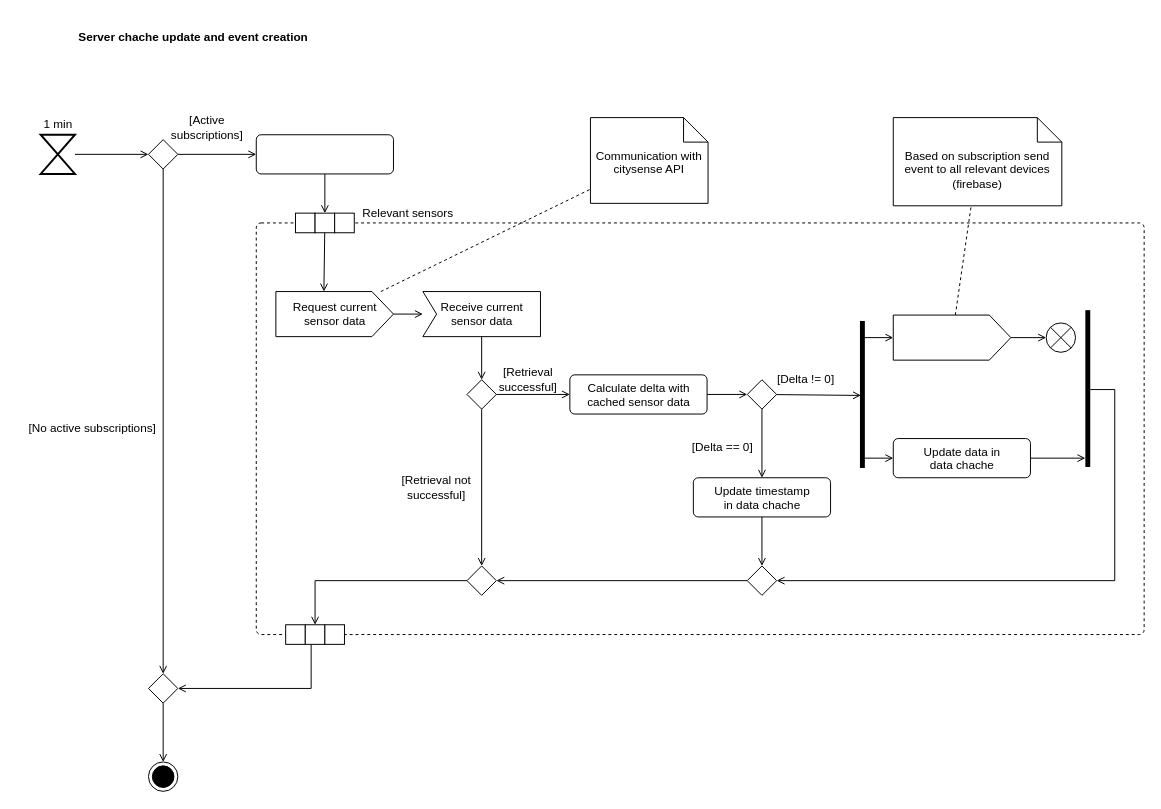
Image size: 1161x809. Some labels were removed from this diagram. Here are the shapes that lost their labels. From the top down, the box of each, then its label:
(255, 134, 393, 174): Create list of all relevant sensors
(892, 314, 1011, 360): Send data changed event
(255, 222, 1144, 635): <<iterative>>
